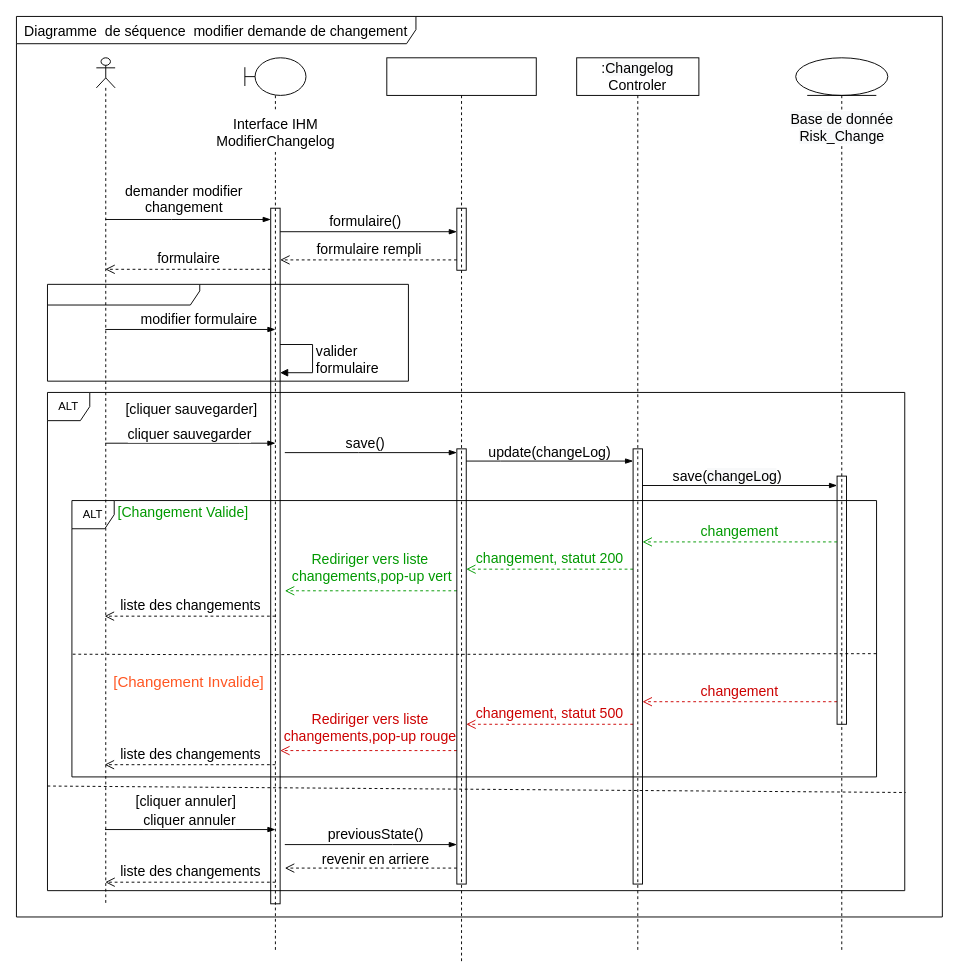
The diagram is 959 pixels wide and 978 high, and some of its shapes have lost their labels. The box of each missing label's shape, as (x1, y1, x2, y2) in pixels:
<<component>> ModifierChangelog: (386, 57, 536, 961)
Administrateur: (95, 57, 115, 904)
alt: formulaire valide: (47, 283, 408, 381)
